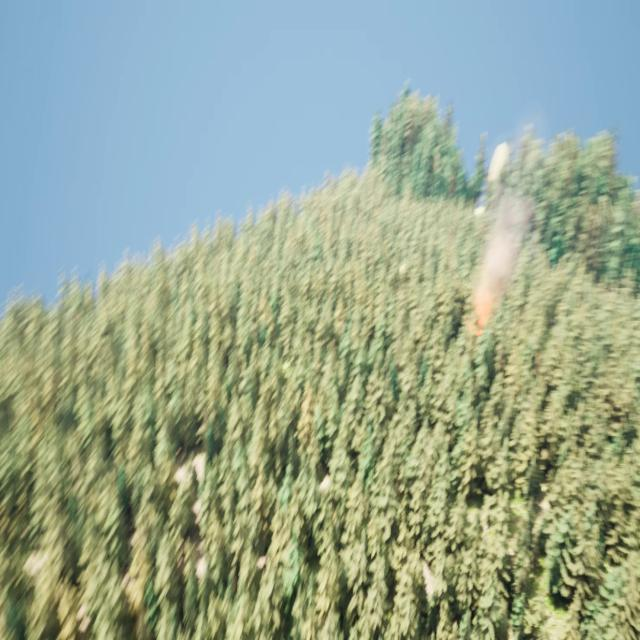smoke: (471, 188, 530, 328)
